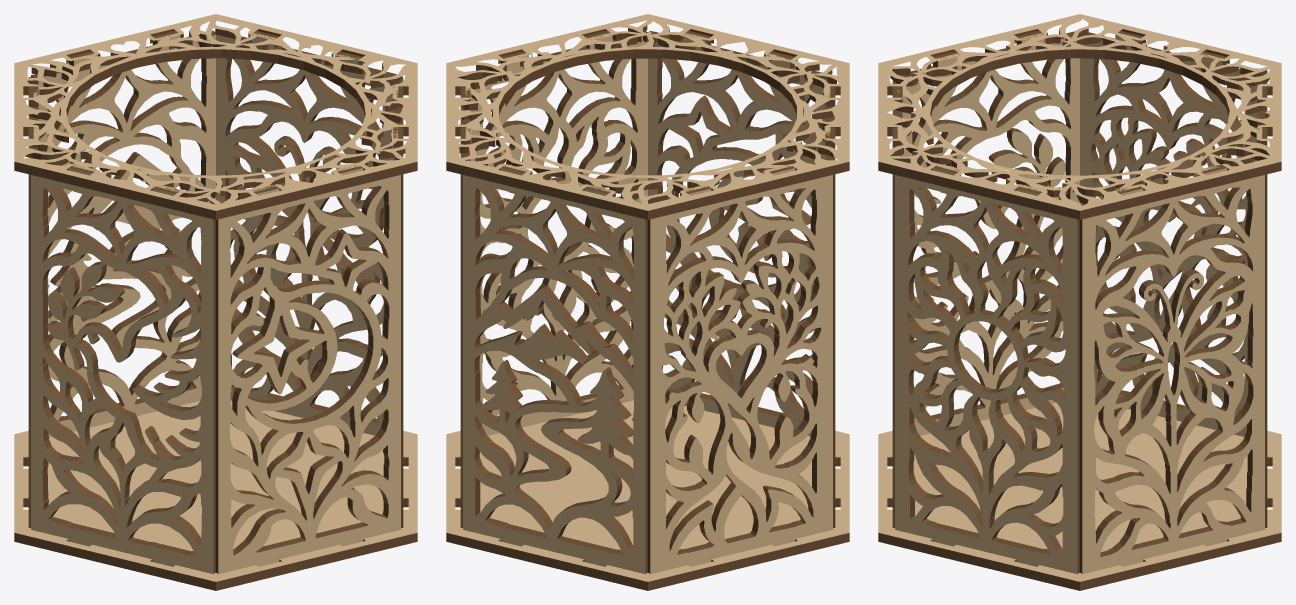
Rendered from lumi-2-priroda.glb.
The picture shows the model from 3 angles, left to right: view 1: azimuth 30°, elevation 25°; view 2: azimuth 150°, elevation 25°; view 3: azimuth 270°, elevation 25°; orthographic projection.
Visible parts, largest first — view 1: stena-02, stena-03, vrsek, dno, stena-06, stena-05, stena-01, stena-04; view 2: stena-04, stena-05, vrsek, dno, stena-01, stena-02, stena-03, stena-06; view 3: stena-06, stena-01, vrsek, dno, stena-04, stena-03, stena-02, stena-05.
Part boxes in pixels (left/top/right/bottom): stena-02: left=216, top=165, right=400, bottom=574; stena-03: left=31, top=164, right=215, bottom=574; vrsek: left=14, top=14, right=417, bottom=219; dno: left=14, top=400, right=417, bottom=590; stena-06: left=216, top=31, right=396, bottom=435; stena-05: left=31, top=30, right=216, bottom=437; stena-01: left=393, top=77, right=403, bottom=527; stena-04: left=28, top=77, right=38, bottom=527; stena-04: left=648, top=165, right=832, bottom=574; stena-05: left=463, top=165, right=647, bottom=574; vrsek: left=446, top=14, right=849, bottom=219; dno: left=446, top=400, right=849, bottom=590; stena-01: left=470, top=31, right=647, bottom=435; stena-02: left=648, top=30, right=825, bottom=436; stena-03: left=825, top=78, right=835, bottom=527; stena-06: left=460, top=86, right=470, bottom=527; stena-06: left=1080, top=164, right=1264, bottom=574; stena-01: left=895, top=165, right=1079, bottom=574; vrsek: left=878, top=14, right=1281, bottom=219; dno: left=878, top=402, right=1281, bottom=590; stena-04: left=1080, top=31, right=1257, bottom=436; stena-03: left=899, top=31, right=1079, bottom=435; stena-02: left=892, top=80, right=902, bottom=527; stena-05: left=1257, top=82, right=1267, bottom=527.
Bounding box in the file's own units: 0.14 × 0.126 × 0.1212.
